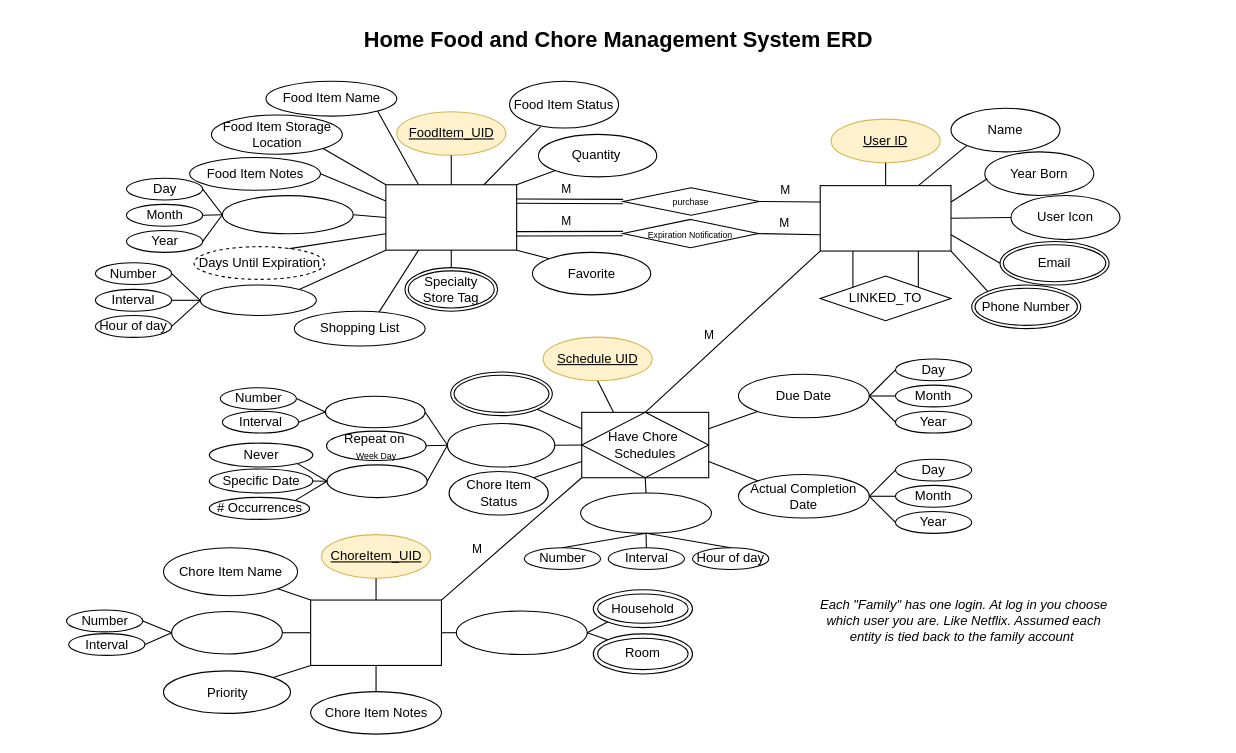
This 1236x753 diagram has some shape labels left out. Here are the shapes that lost their labels. From the top down, the centre of each, then its label:
(287,214): Expiration Date
(451,217): Food Item
(885,218): Users
(257,300): Expiration Reminder
(374,411): Repeat Every
(501,393): Assignment
(500,444): Recurrence / Frequency
(376,481): End Details
(645,512): Notification
(226,632): Duration
(375,632): Chore
(521,632): Chore Item Location
